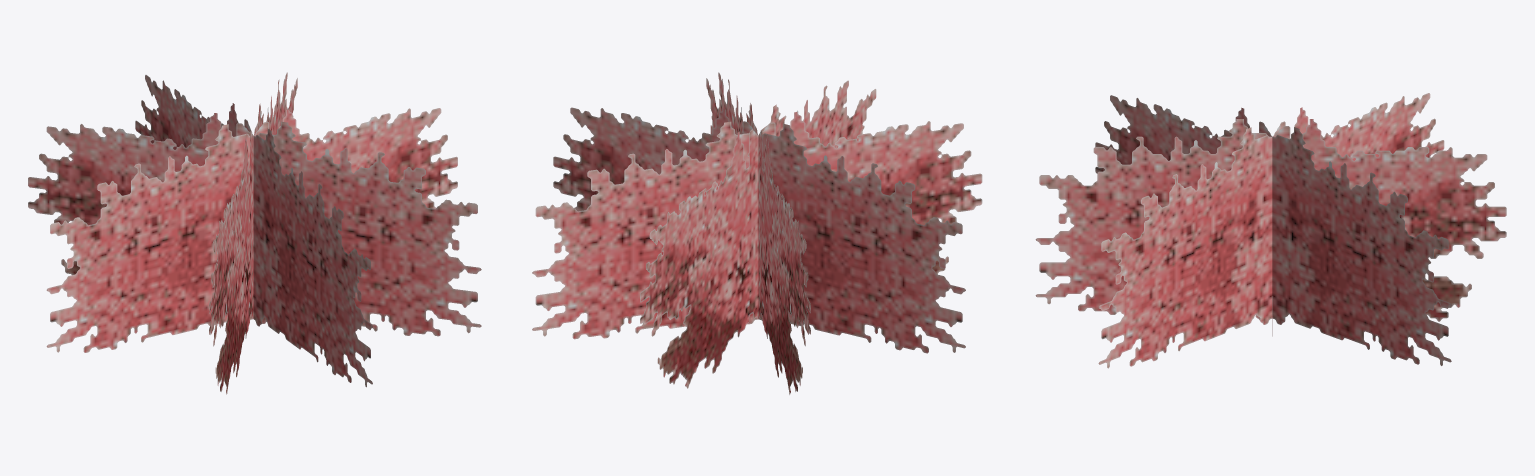
File: Sakura Bush.fbx
3 views of the same model, side by side, from view 1: azimuth 30°, elevation 25°; view 2: azimuth 150°, elevation 25°; view 3: azimuth 270°, elevation 25° (orthographic).
Parts seen in each view (by area): view 1: Bush 2; view 2: Bush 2; view 3: Bush 2.
Boxes of the visible parts, x1,y1,x2,y2 form: Bush 2: (28, 72, 481, 394); Bush 2: (532, 72, 982, 394); Bush 2: (1035, 93, 1506, 368).
Size of the model in its own units: 923 by 488 by 923.
